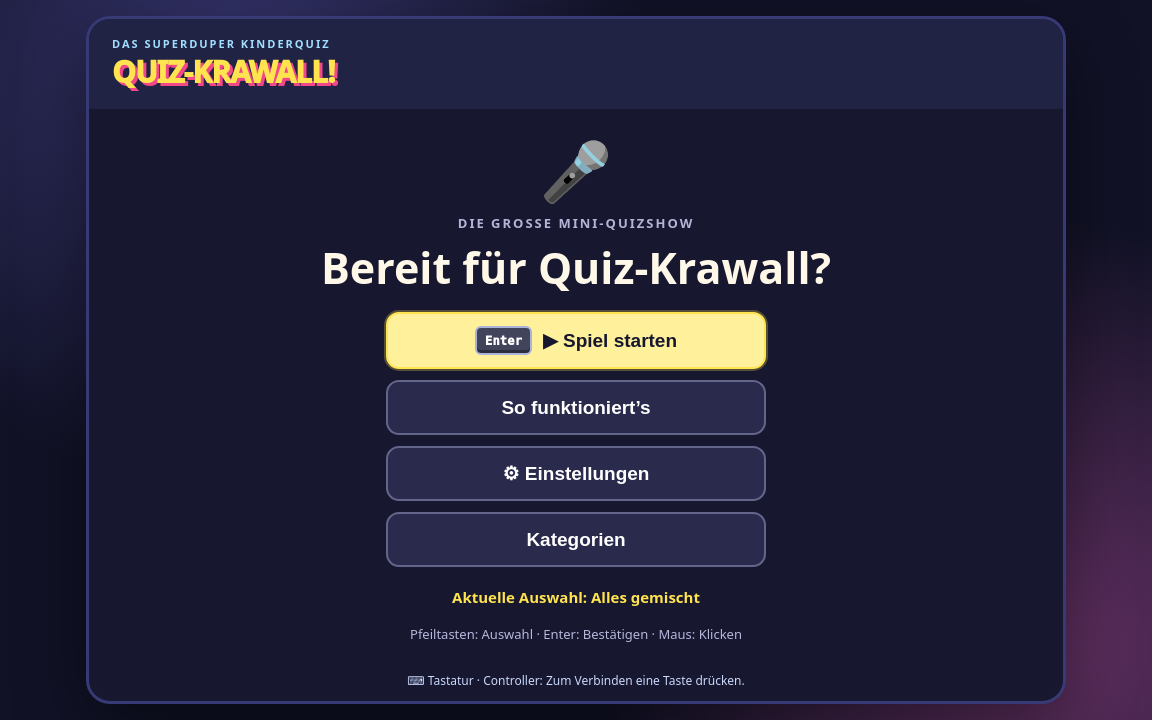
automatic category-intro transitions › shows the introduction until the recording has ended and then starts the first question
Later steps or results of the test are not shown.
Click the button "Enter ▶ Spiel starten".
click(576, 341)  # box [386,312,766,369]
Wait 500 ms
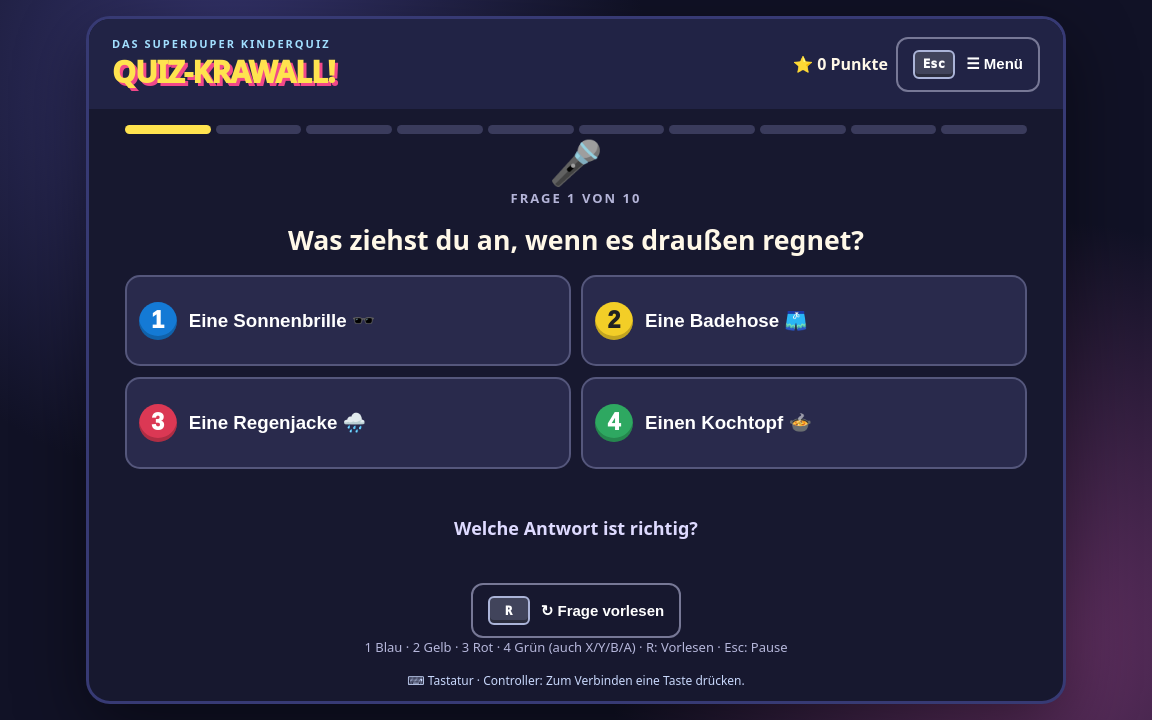
Expected: the text "Frage 1 von 10" is shown, [511,190,641,208]
